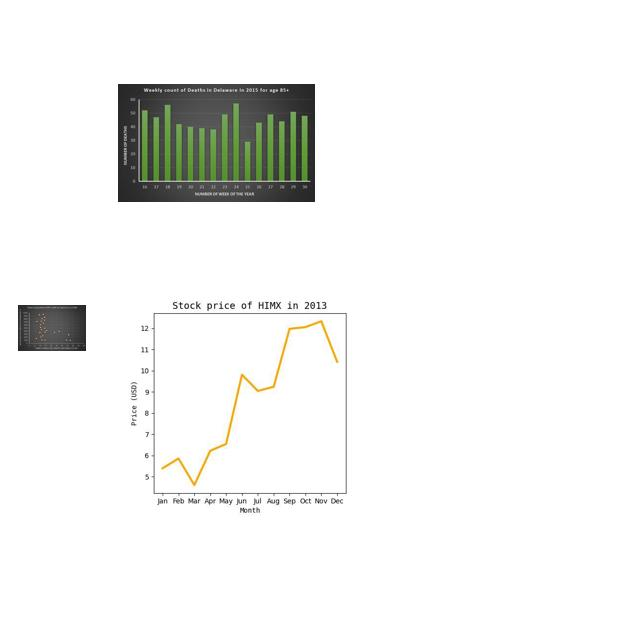Graph: (90, 285, 402, 519), (118, 84, 315, 202), (18, 305, 86, 351)
